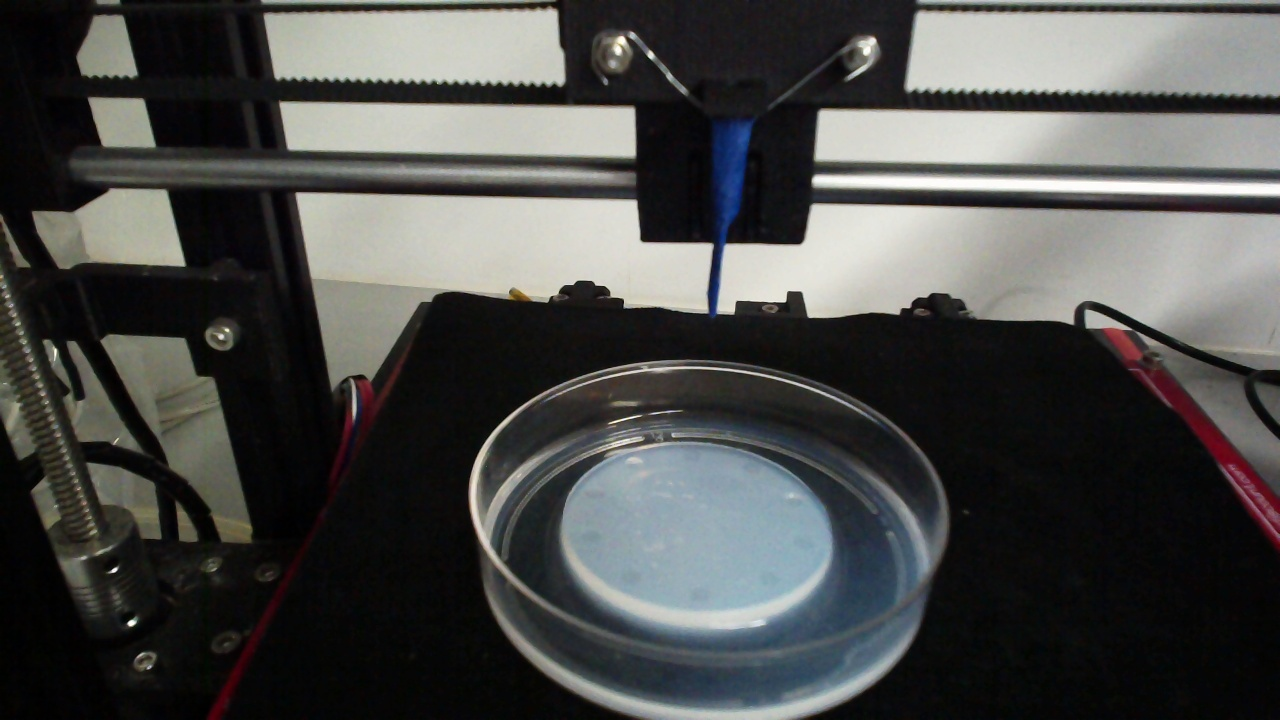groove: (685, 584, 713, 605), (615, 567, 644, 586), (754, 569, 781, 589), (792, 533, 817, 553), (582, 483, 608, 501), (579, 528, 605, 545), (784, 491, 807, 510), (679, 447, 703, 464), (624, 456, 646, 473), (741, 460, 764, 476)
needle: (709, 121, 750, 320)
